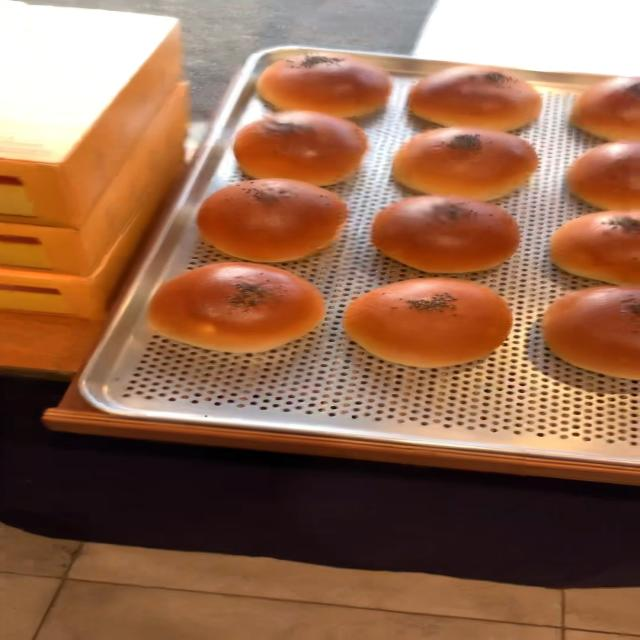bread: (140, 259, 329, 366), (344, 277, 515, 375)
